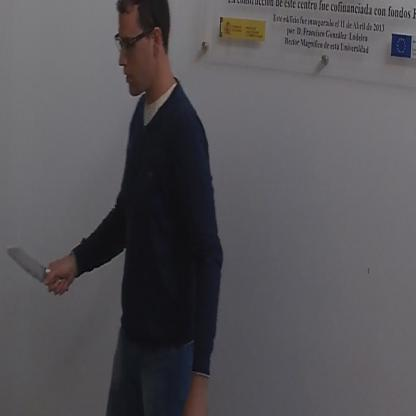knife: (4, 240, 68, 301)
